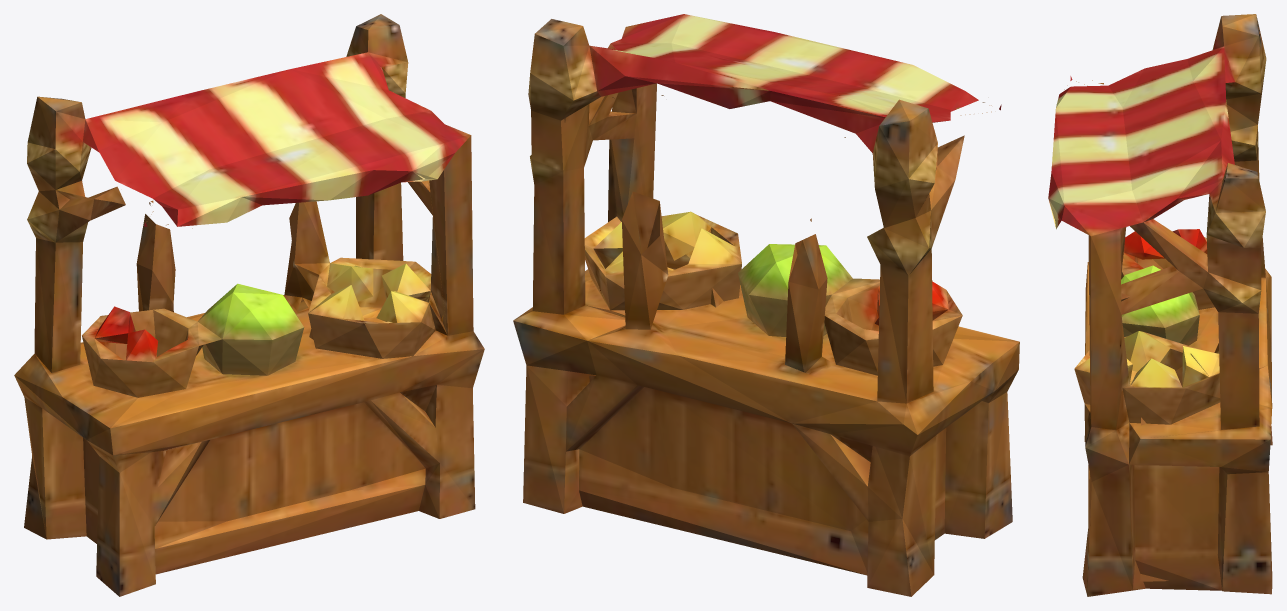
Rendered from market-stall.glb.
3 renders of one model, left to right at view 1: azimuth 30°, elevation 25°; view 2: azimuth 150°, elevation 25°; view 3: azimuth 270°, elevation 25°, orthographic. The views are drawn at different scales.
Parts seen in each view (by area): view 1: market-stall; view 2: market-stall; view 3: market-stall.
Boxes of the visible parts, left/top/right/bottom form: market-stall: left=14, top=14, right=484, bottom=596; market-stall: left=513, top=14, right=1019, bottom=596; market-stall: left=1048, top=14, right=1272, bottom=596.
Size of the model in its own units: 2.52 by 2.79 by 1.35.
Materials: 1 (1 with a texture image).
